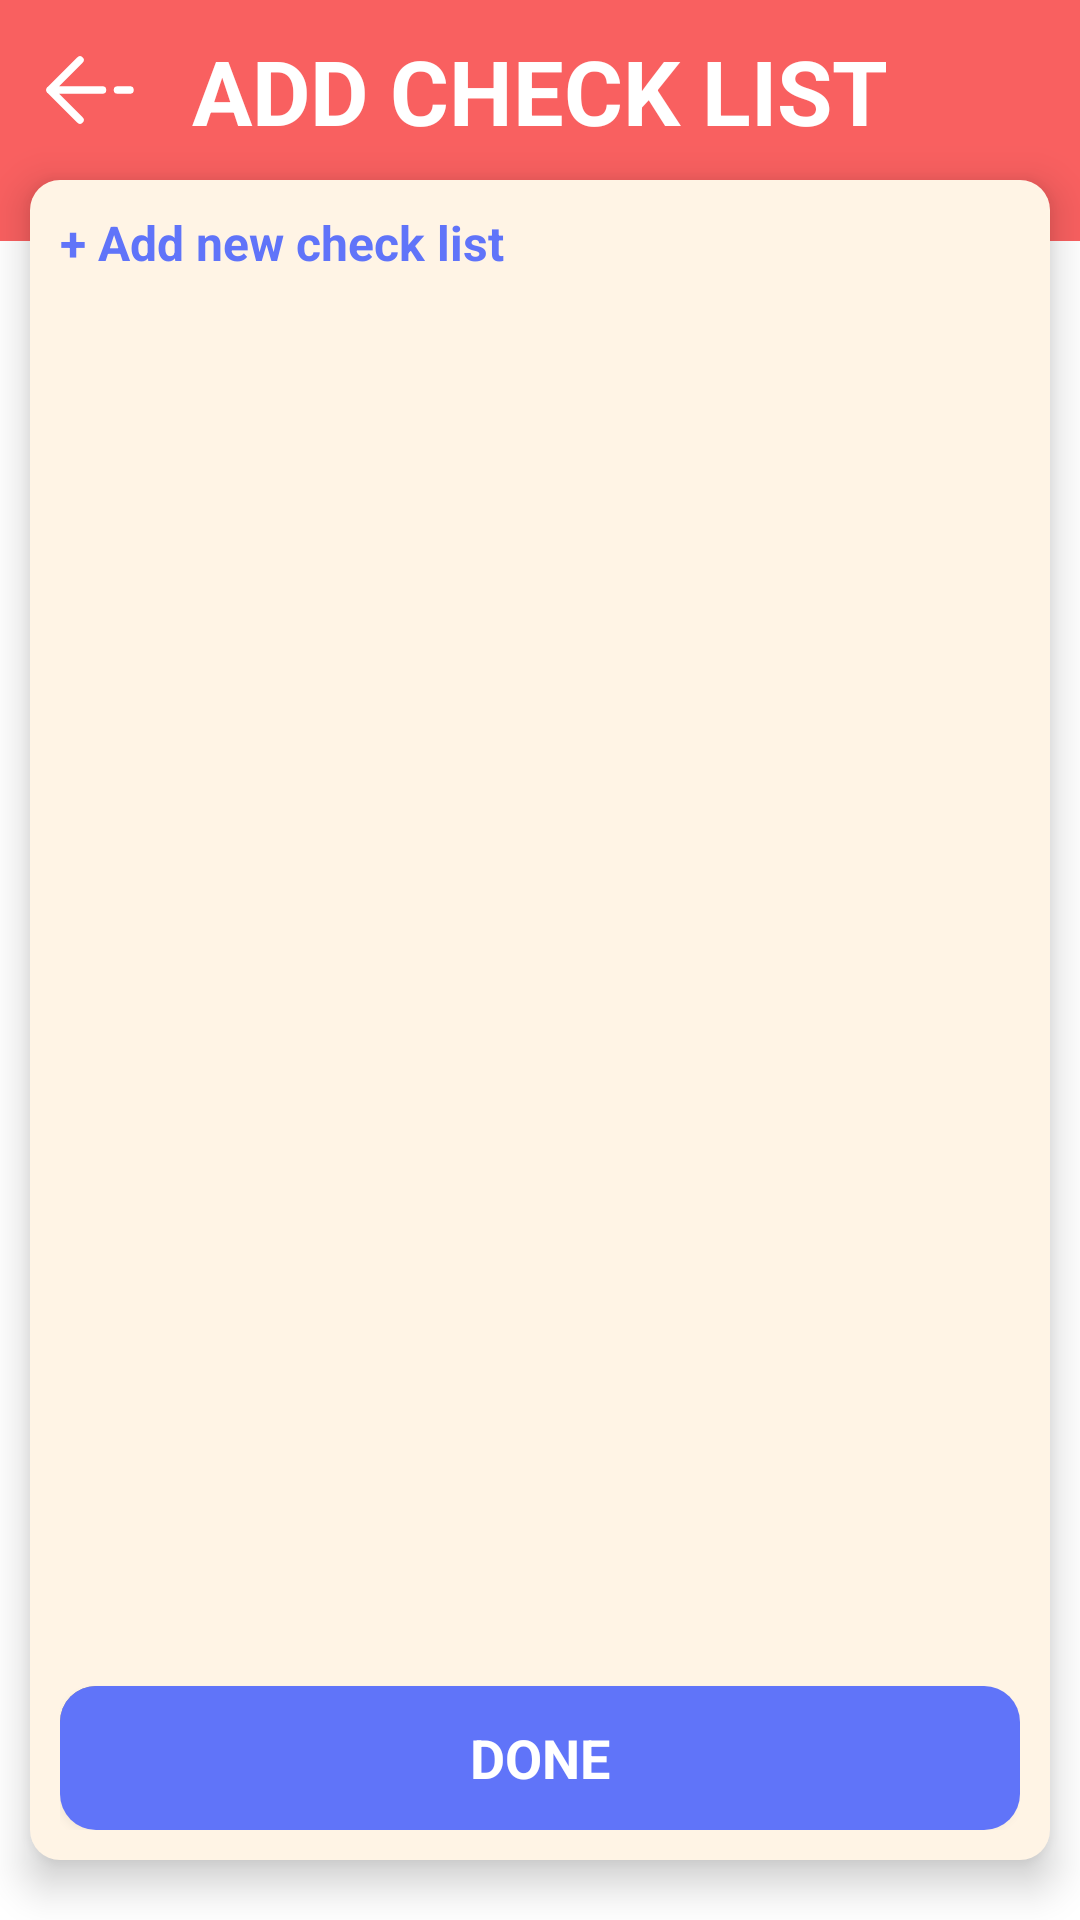

Icons on this 1080x1920 Android screen, each with the point to tap as (x,y):
arrow back: (90,90)
